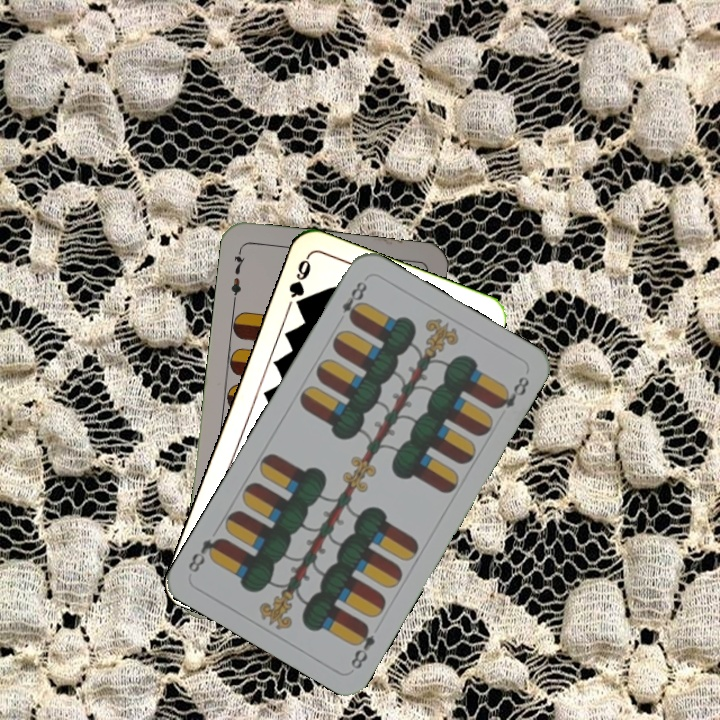E7: (227, 246, 248, 305)
E8: (346, 619, 378, 672), (337, 277, 370, 325)
G9: (284, 252, 314, 313)
